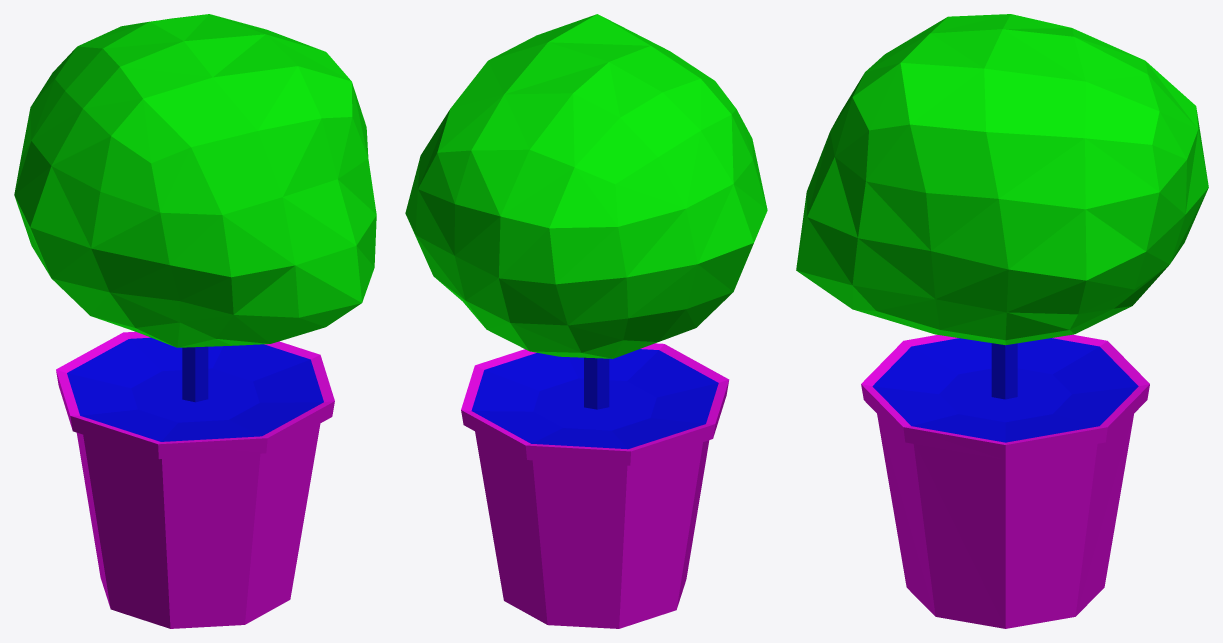
The model's file is Potplant.fbx.
The picture shows the model from 3 angles, left to right: view 1: azimuth 30°, elevation 25°; view 2: azimuth 150°, elevation 25°; view 3: azimuth 270°, elevation 25°; orthographic projection. The views are drawn at different scales.
Visible parts, largest first — view 1: Potplant; view 2: Potplant; view 3: Potplant.
Boxes of the visible parts, <box> form: Potplant: <box>14,14,376,628</box>; Potplant: <box>405,14,767,628</box>; Potplant: <box>796,14,1208,628</box>.
Size of the model in its own units: 83.84 by 137 by 92.94.
